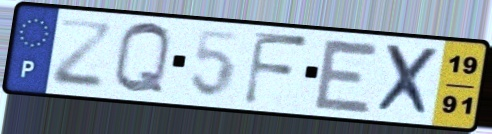5: (188, 27, 242, 101)
E: (311, 36, 383, 116)
F: (240, 28, 312, 107)
Q: (111, 20, 175, 97)
X: (373, 42, 443, 120)
Z: (49, 16, 116, 92)
